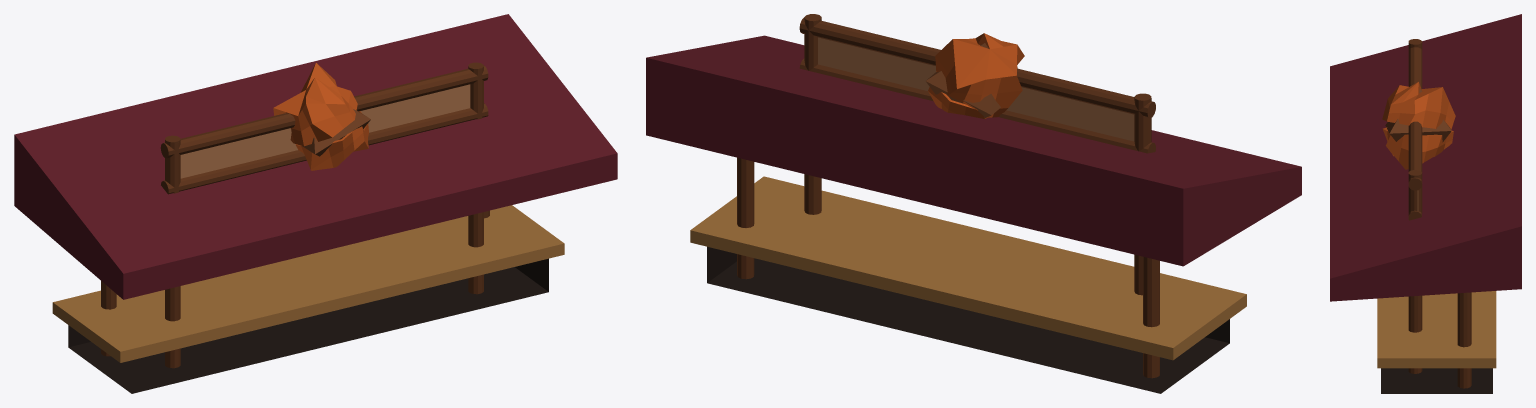
Rendered from 3d-oliveras-anna-paradeta-de-castanyes.glb.
3 views of the same model, side by side, from view 1: azimuth 30°, elevation 25°; view 2: azimuth 150°, elevation 25°; view 3: azimuth 270°, elevation 25° (orthographic). The views are drawn at different scales.
Parts seen in each view (by area): view 1: Sphere.007; view 2: Sphere.007; view 3: Sphere.007.
Boxes of the visible parts, x1,y1,x2,y2 form: Sphere.007: [14, 14, 617, 393]; Sphere.007: [646, 14, 1301, 393]; Sphere.007: [1330, 14, 1521, 393].
Bounding box in the file's own units: 5.56 × 2.73 × 2.12.
1 material, 1 textured.
